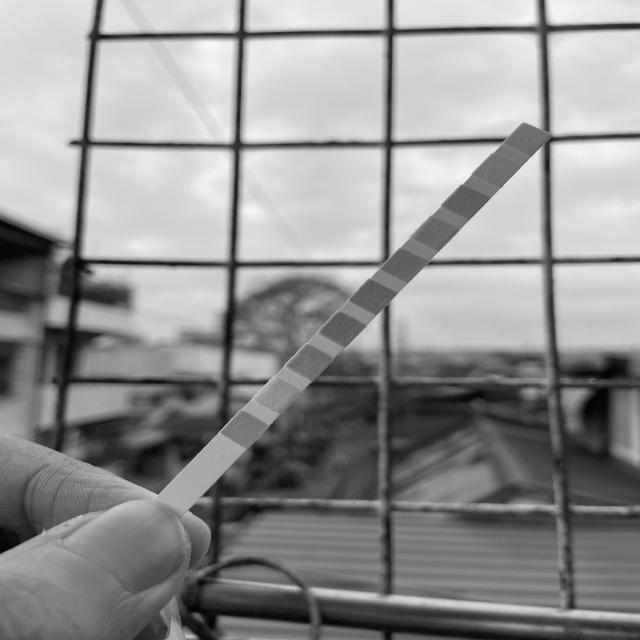Bilirubin: (264, 387, 292, 405)
Blood: (359, 289, 386, 306)
Glucose: (231, 420, 258, 439)
Ketone: (296, 354, 322, 371)
Leukocytes: (514, 132, 541, 147)
Nitrite: (483, 162, 509, 178)
Protein: (421, 226, 451, 242)
SpGravity: (328, 322, 356, 337)
Urobilinogen: (452, 194, 479, 210)
background: (0, 0, 640, 640)
pH: (390, 258, 418, 274)
strip: (159, 123, 554, 511)
